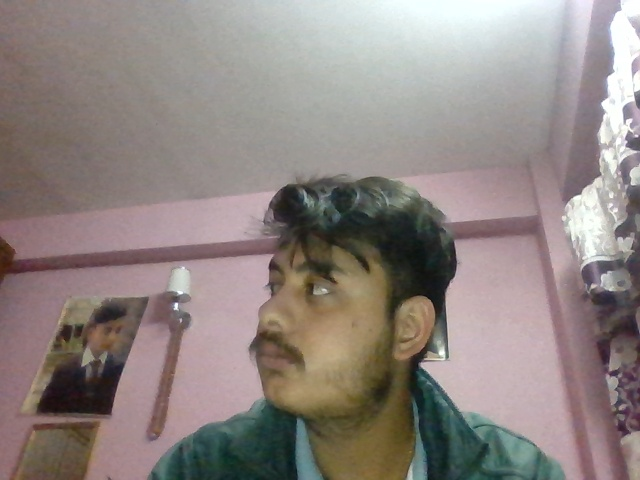no mask: (243, 300, 447, 427)
